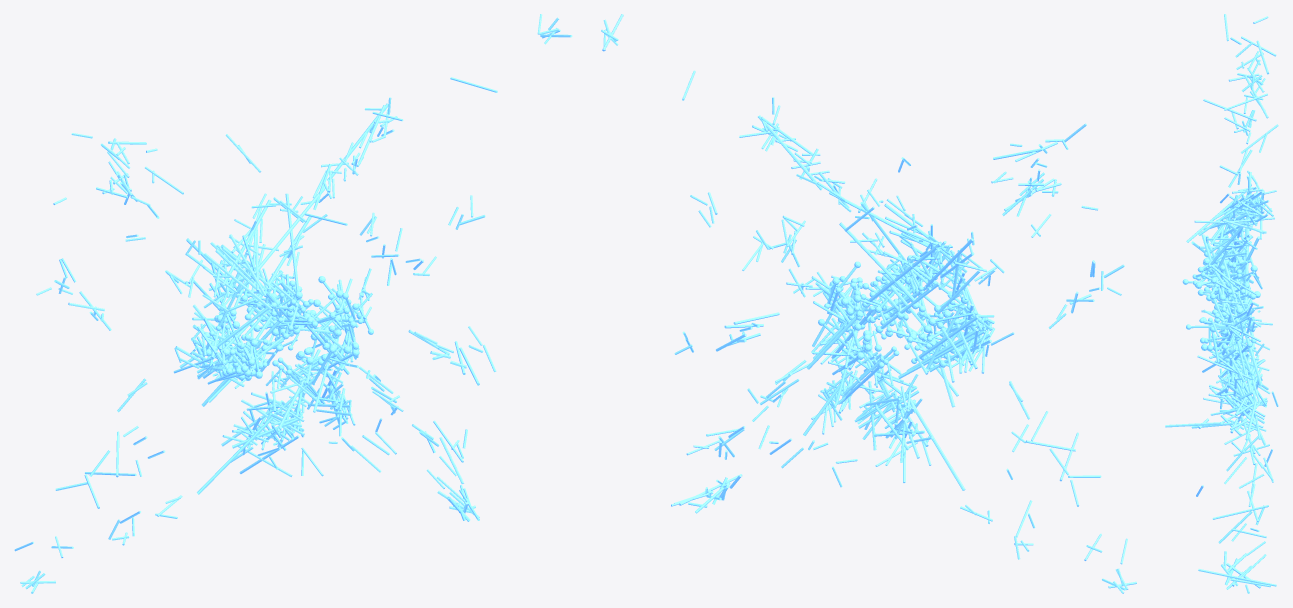
The model's file is neural-pathways.glb.
3 views of the same model, side by side, from view 1: azimuth 30°, elevation 25°; view 2: azimuth 150°, elevation 25°; view 3: azimuth 270°, elevation 25° (orthographic). The views are drawn at different scales.
Parts seen in each view (by area): view 1: world; view 2: world; view 3: world.
Part boxes in pixels (bbox=[...]): world: bbox=[14, 14, 572, 593]; world: bbox=[601, 14, 1136, 593]; world: bbox=[1165, 14, 1278, 593].
Bounding box in the file's own units: 5.61 × 4.71 × 1.17.
